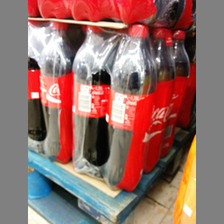soda: (106, 25, 158, 191), (72, 24, 113, 174), (38, 21, 74, 164)
